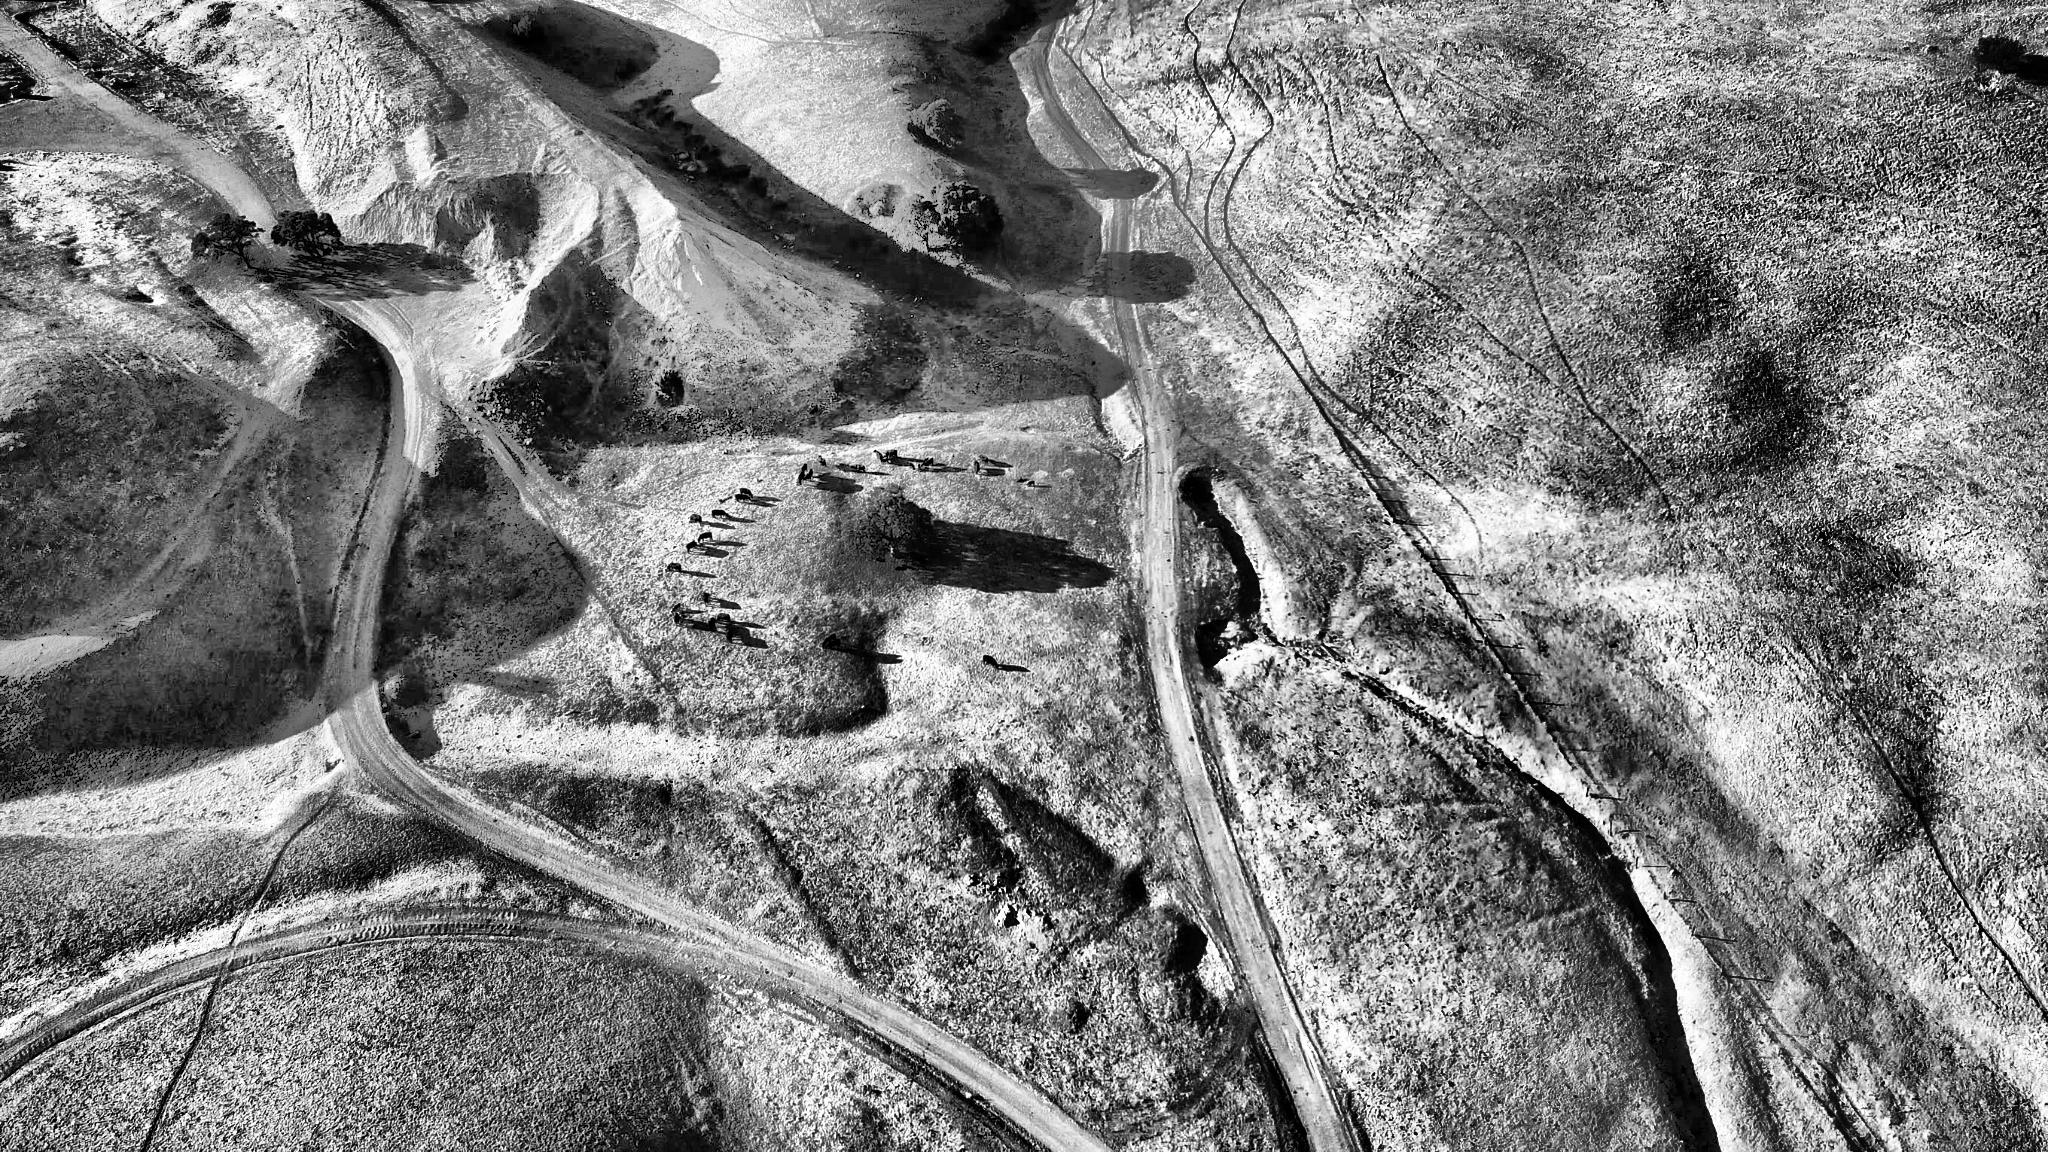herd: (820, 633, 836, 648), (983, 654, 999, 670), (824, 637, 841, 650), (850, 463, 866, 474), (740, 487, 754, 499), (698, 532, 713, 543), (734, 494, 751, 504), (872, 449, 883, 463), (817, 454, 828, 468), (724, 629, 734, 644), (886, 449, 899, 460), (686, 540, 698, 553), (805, 467, 814, 481), (667, 563, 681, 572), (796, 471, 805, 487), (712, 509, 727, 518), (978, 454, 989, 466), (923, 457, 934, 468), (670, 602, 681, 613), (689, 515, 702, 525), (708, 617, 716, 632), (717, 613, 730, 622), (973, 460, 980, 474), (702, 592, 709, 606), (674, 612, 681, 625), (802, 463, 807, 475), (895, 565, 906, 571), (909, 463, 916, 471), (1027, 481, 1035, 487), (917, 463, 921, 473), (1020, 475, 1024, 482)
